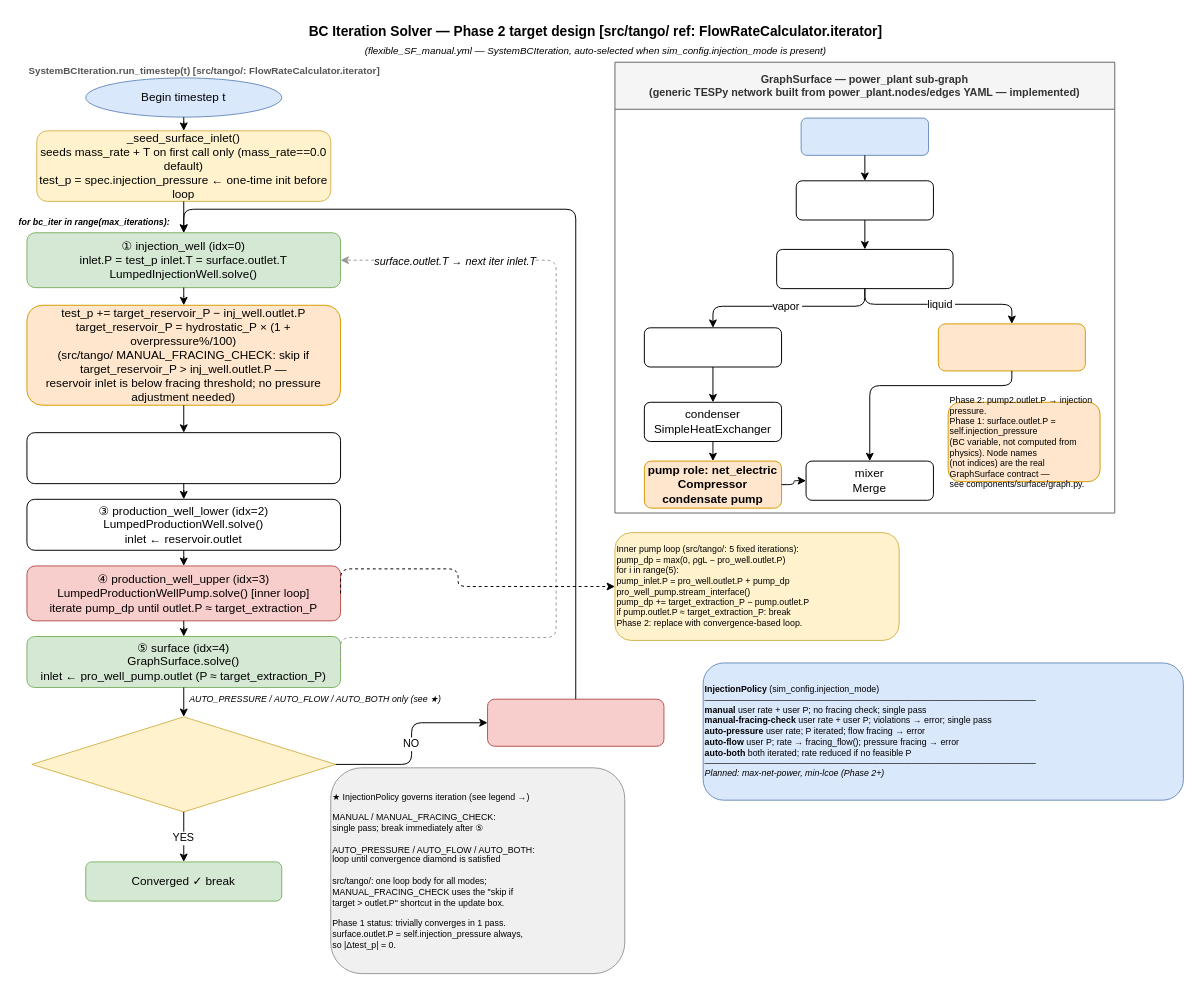
This 1201x991 diagram has some shape labels left out. The shapes that lost their labels are listed below. From the top down, each one's centre as x and y in pixels, then its label:
At point (864, 136): "inlet Source".
At point (864, 200): "valve p_out_megapascals: 0.5".
At point (864, 268): "droplet_separator DropletSeparator".
At point (712, 347): "turbine role: net_electric p_out_megapascals: 0.05".
At point (1011, 347): "pump2 role: net_electric Compressor brine re-injection pump".
At point (183, 458): "② reservoir (idx=1) LumpedReservoir.solve() inlet ← inj_well.outlet".
At point (575, 722): "prev_test_p = test_p next bc_iter".
At point (183, 764): "|test_p[N] − test_p[N-1]| / test_p[N-1] < tol ? (also: mass_rate) ★".
